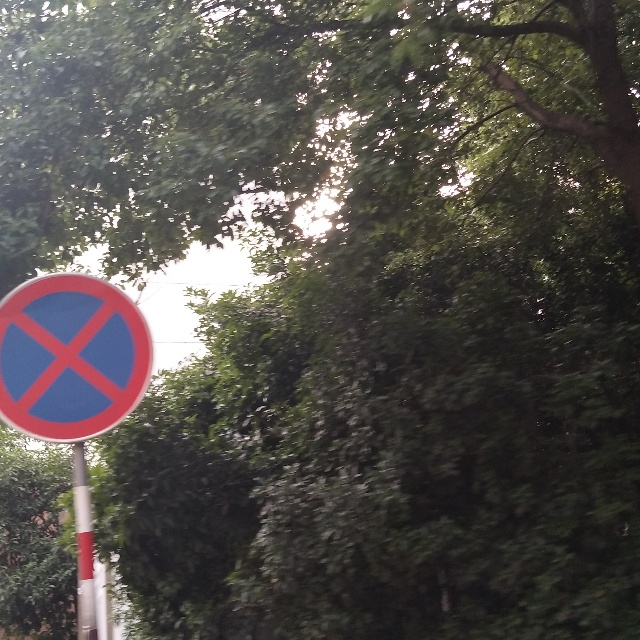stop: (3, 290, 136, 439)
